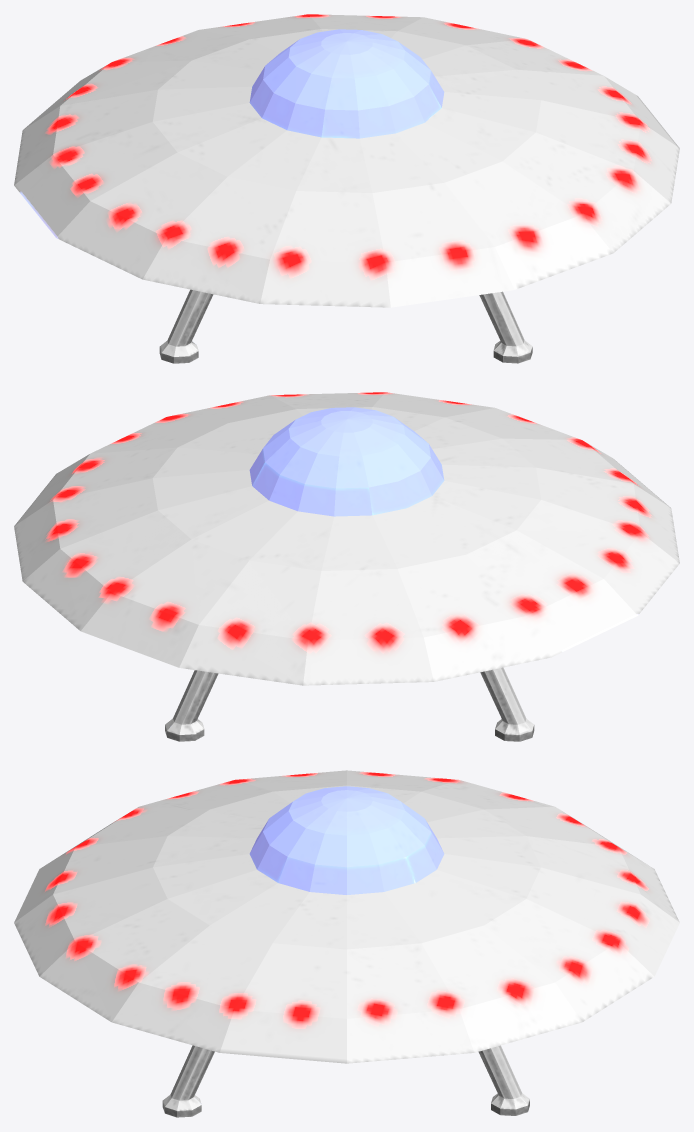
Rendered from UFO.fbx.
3 renders of one model, top to bottom at view 1: azimuth 30°, elevation 25°; view 2: azimuth 150°, elevation 25°; view 3: azimuth 270°, elevation 25°, orthographic.
Visible parts, largest first — view 1: defaultMaterial; view 2: defaultMaterial; view 3: defaultMaterial.
Boxes of the visible parts, x1,y1,x2,y2 form: defaultMaterial: (14,14,679,363); defaultMaterial: (14,392,679,741); defaultMaterial: (14,770,679,1117).
Size of the model in its own units: 200 by 89.74 by 200.
Materials: 1 (1 with a texture image).
